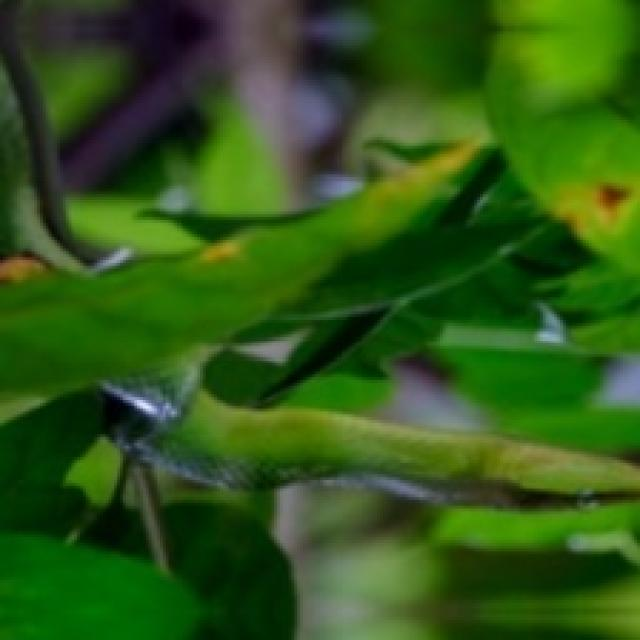red-tailed green ratsnake: (100, 372, 640, 496)
